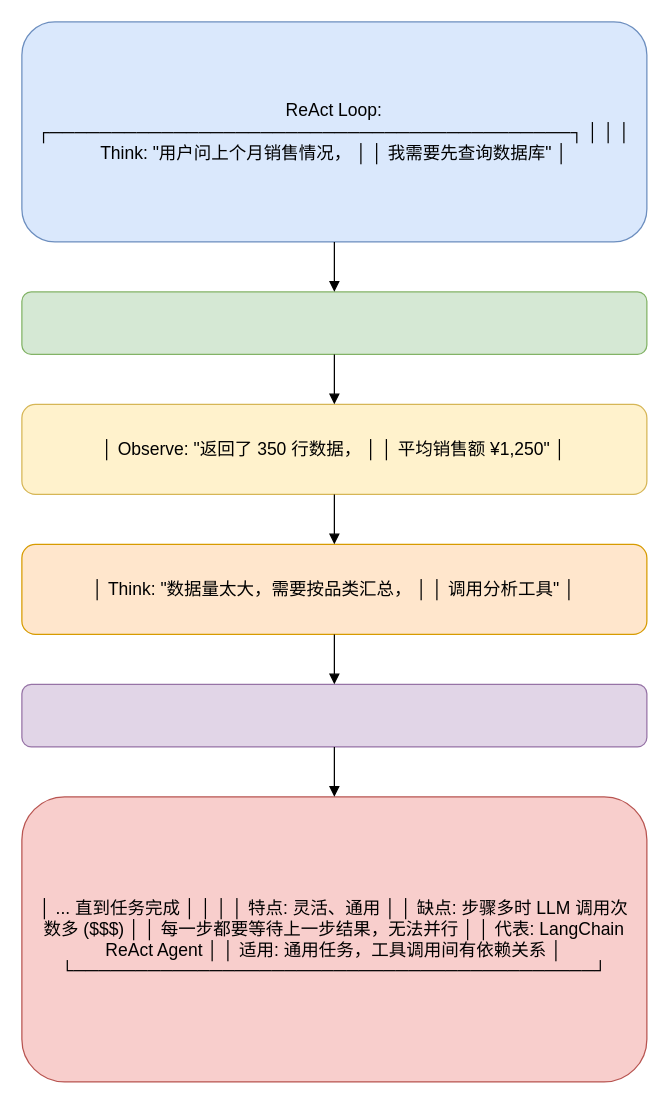
The diagram is 669 pixels wide and 1104 high, and some of its shapes have lost their labels. The centre of each missing label's shape, as x and y in pixels:
│ Act: analyze_by_category(data) │: (x=334, y=715)
│ Act: query_database("SELECT ...") │: (x=334, y=322)
